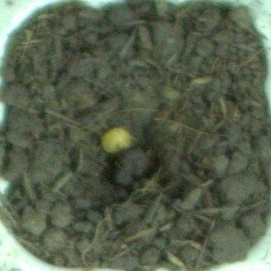pepper seed: (33, 48, 167, 205)
